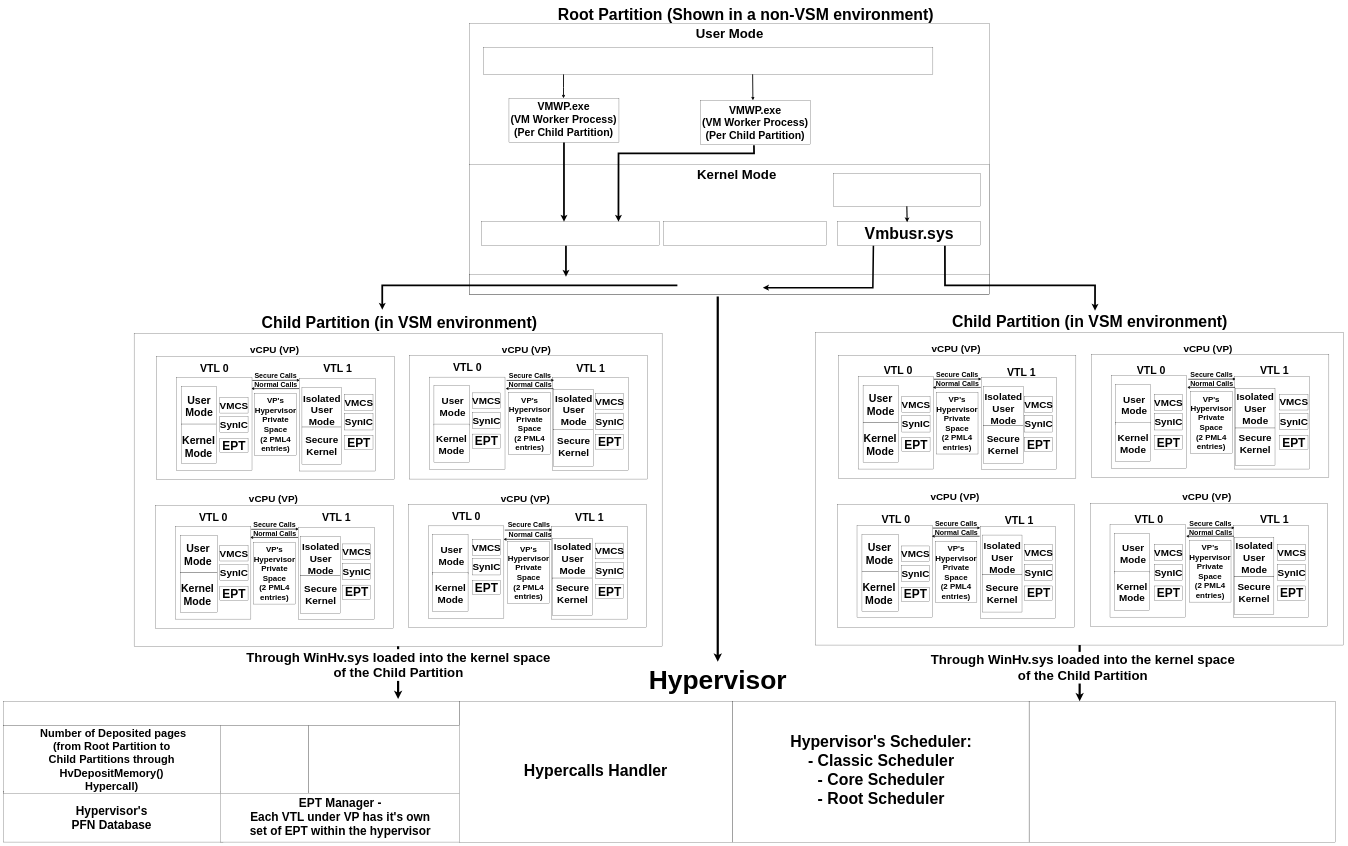
Some shapes in this 1348 by 846 pixel diagram are drawn without their labels. Each missing label, with the box of its shape:
Memory Compartment: (4, 701, 459, 725)
ntoskrnl.exe: (664, 221, 827, 246)
Number of Free Pages: (220, 725, 308, 794)
Partition Manager: Manages and enforces Partitions Privileges: (1029, 701, 1336, 842)
Physical Pages List - Divided into NUMA Nodes: (308, 725, 464, 794)
Vid.sys: (481, 221, 659, 246)
Virtualization Service Provider: (833, 173, 980, 206)
VMMS.exe (Virtual Machine Management Service): (483, 48, 933, 74)
WinHvr.sys: (470, 274, 989, 294)
